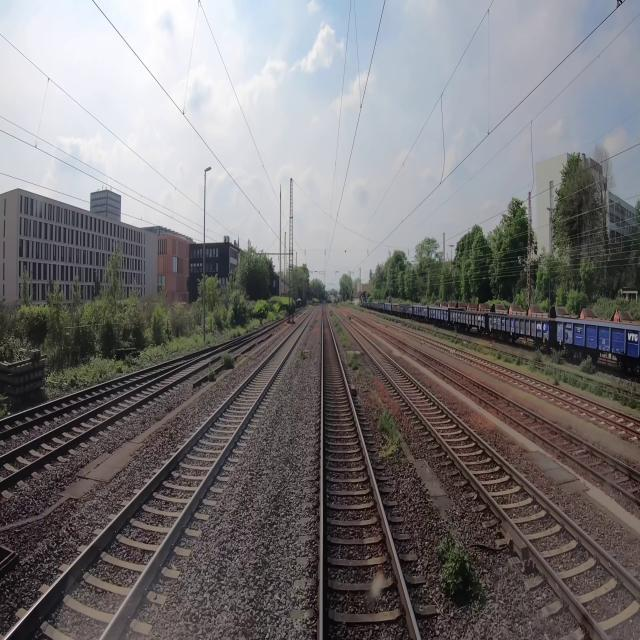Plant: (432, 533, 487, 609), (543, 365, 637, 409), (376, 408, 405, 462), (333, 318, 347, 347), (346, 354, 359, 370), (496, 351, 512, 362), (224, 355, 235, 370), (300, 348, 307, 361), (208, 370, 216, 381), (528, 359, 535, 371), (516, 356, 521, 365)
